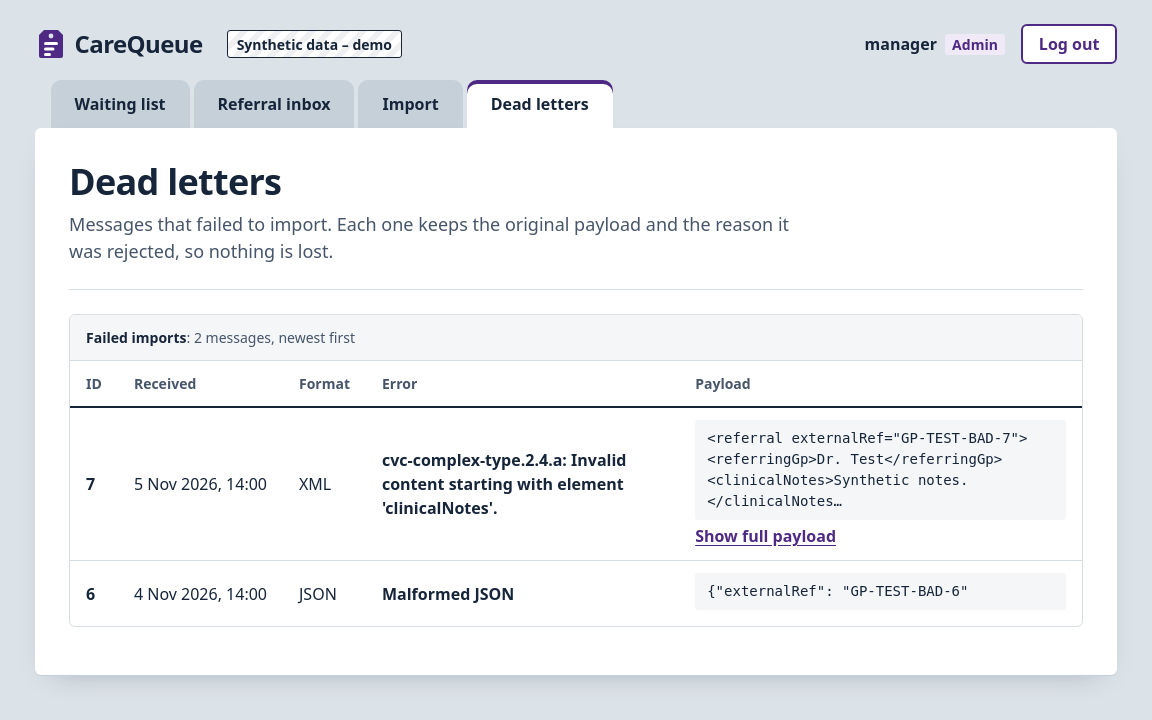
Test case: dead letters › lists failed imports newest first, with the error and a payload preview
Expected: the column heading "7" is shown, [70, 407, 118, 561]
Expected: the text "XML" is shown, [283, 407, 366, 561]
Click the button "Show full payload". click: {"x": 766, "y": 536}
box: [695, 524, 836, 548]
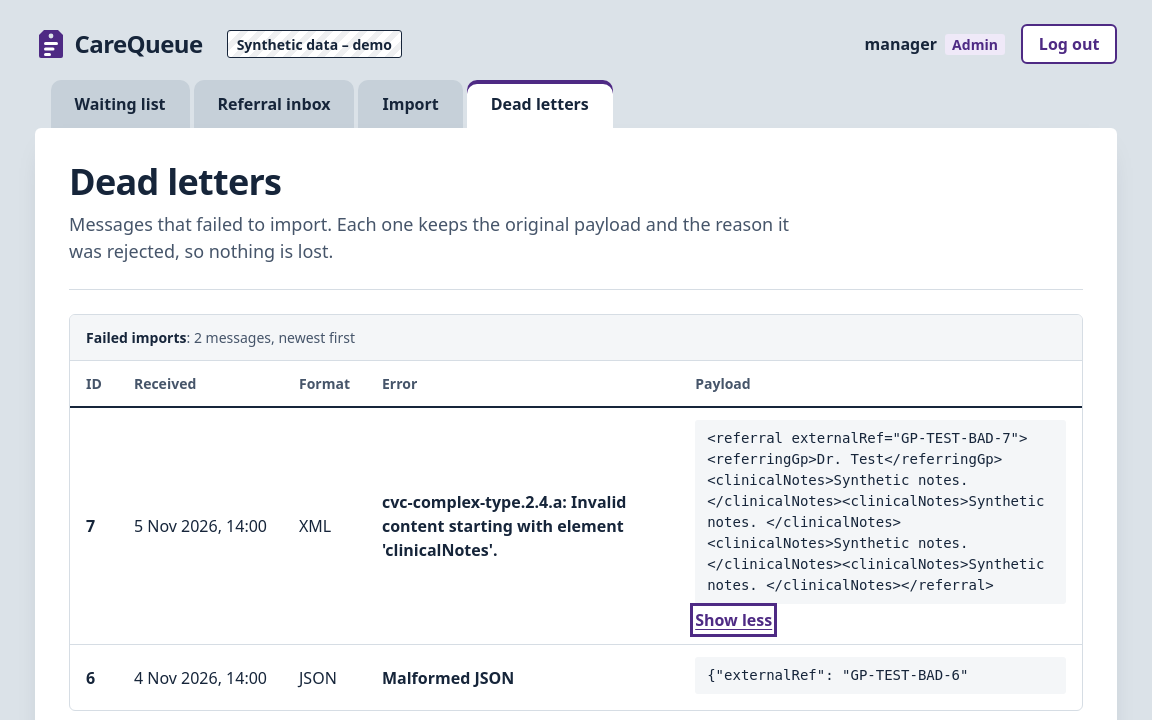
Now the button "Show less" is expanded, box [695, 608, 772, 632]
Now the text "</referral>" is shown, box [707, 430, 1053, 593]
